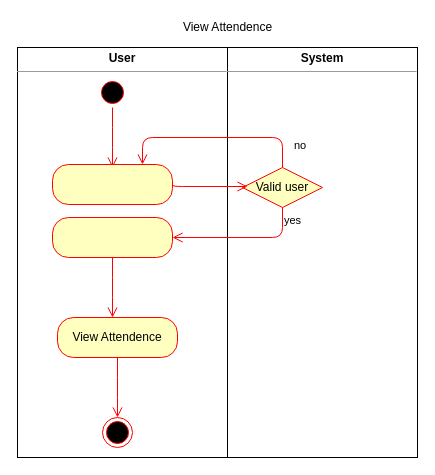
Image size: 435x475. Some labels were removed from this diagram. The shapes that lost their labels are listed below. From the top down, each one's box as (x1, y1, x2, y2) in pixels, then its label:
(52, 164, 172, 204): Login
(52, 216, 172, 258): Dashboard
